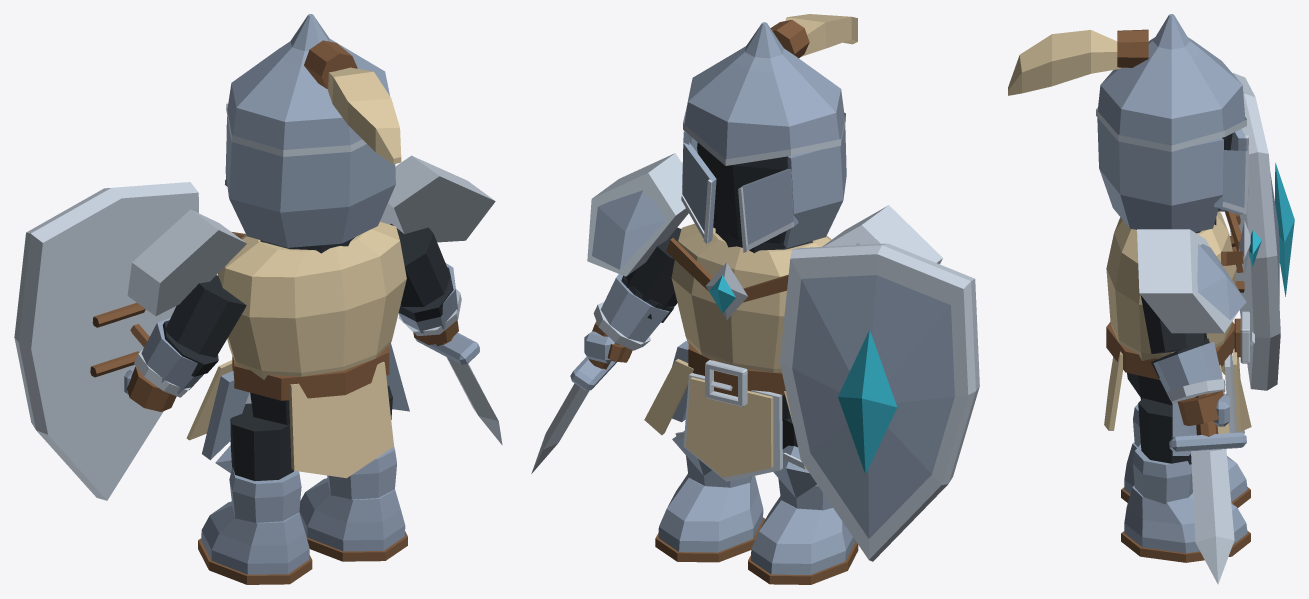
File: warrior_shield.glb
3 views of the same model, side by side, from view 1: azimuth 30°, elevation 25°; view 2: azimuth 150°, elevation 25°; view 3: azimuth 270°, elevation 25° (orthographic). The views are drawn at different scales.
Visible parts, largest first — view 1: Body, Shield, Head, Arm.L, Leg.L, Arm.R, Leg.R, Sword; view 2: Shield, Head, Body, Arm.R, Leg.L, Leg.R, Arm.L, Sword; view 3: Head, Arm.R, Body, Shield, Leg.R, Sword, Leg.L.
Boxes of the visible parts, x1=… form: Body: x1=186, y1=221, x2=409, y2=478; Shield: x1=14, y1=182, x2=198, y2=500; Head: x1=225, y1=14, x2=401, y2=247; Arm.L: x1=124, y1=209, x2=246, y2=411; Leg.L: x1=198, y1=403, x2=312, y2=584; Arm.R: x1=380, y1=155, x2=495, y2=344; Leg.R: x1=299, y1=385, x2=407, y2=561; Sword: x1=415, y1=332, x2=502, y2=445; Shield: x1=779, y1=243, x2=979, y2=561; Head: x1=681, y1=14, x2=857, y2=252; Body: x1=644, y1=223, x2=831, y2=481; Arm.R: x1=584, y1=153, x2=688, y2=363; Leg.L: x1=748, y1=418, x2=858, y2=584; Leg.R: x1=655, y1=431, x2=765, y2=562; Arm.L: x1=822, y1=205, x2=942, y2=264; Sword: x1=531, y1=356, x2=616, y2=473; Head: x1=1008, y1=14, x2=1248, y2=232; Arm.R: x1=1137, y1=229, x2=1246, y2=426; Body: x1=1104, y1=210, x2=1261, y2=455; Shield: x1=1229, y1=73, x2=1294, y2=390; Leg.R: x1=1121, y1=398, x2=1250, y2=562; Sword: x1=1169, y1=392, x2=1246, y2=584; Leg.L: x1=1121, y1=397, x2=1250, y2=507.
Bounding box in the file's own units: 1.07 × 1.16 × 0.598.
